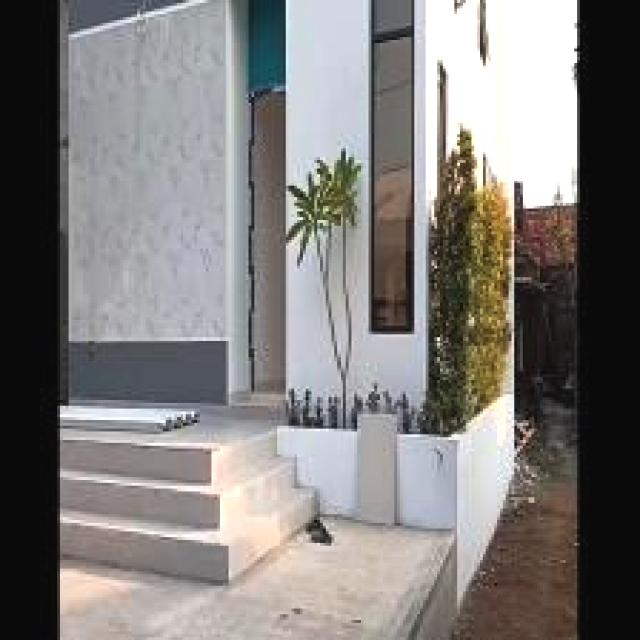upstair: (58, 424, 218, 609)
